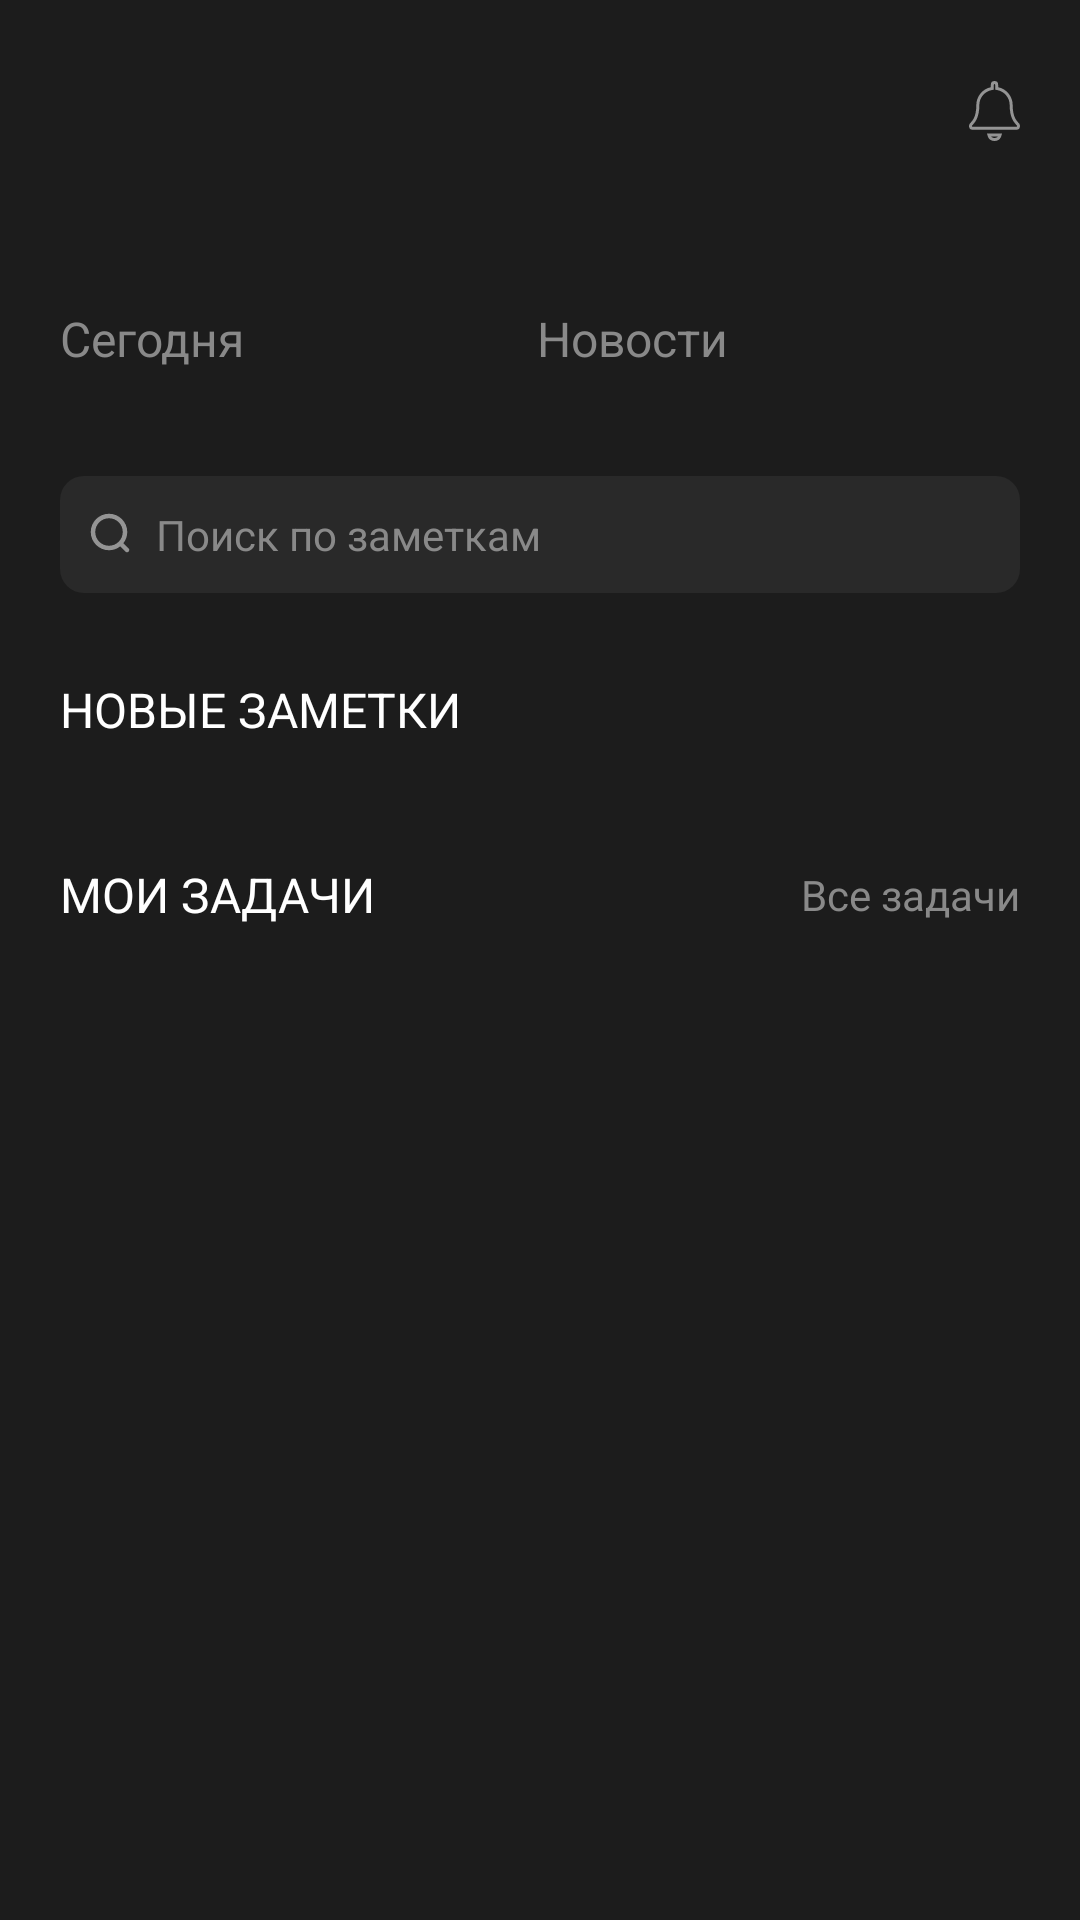

Icons on this 1080*1920 Android screen, each with its box as (x1, y1, x2, y2):
bell: (969, 81, 1020, 141)
